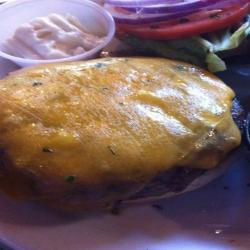burger: (6, 53, 246, 219)
salad: (116, 16, 250, 72)
